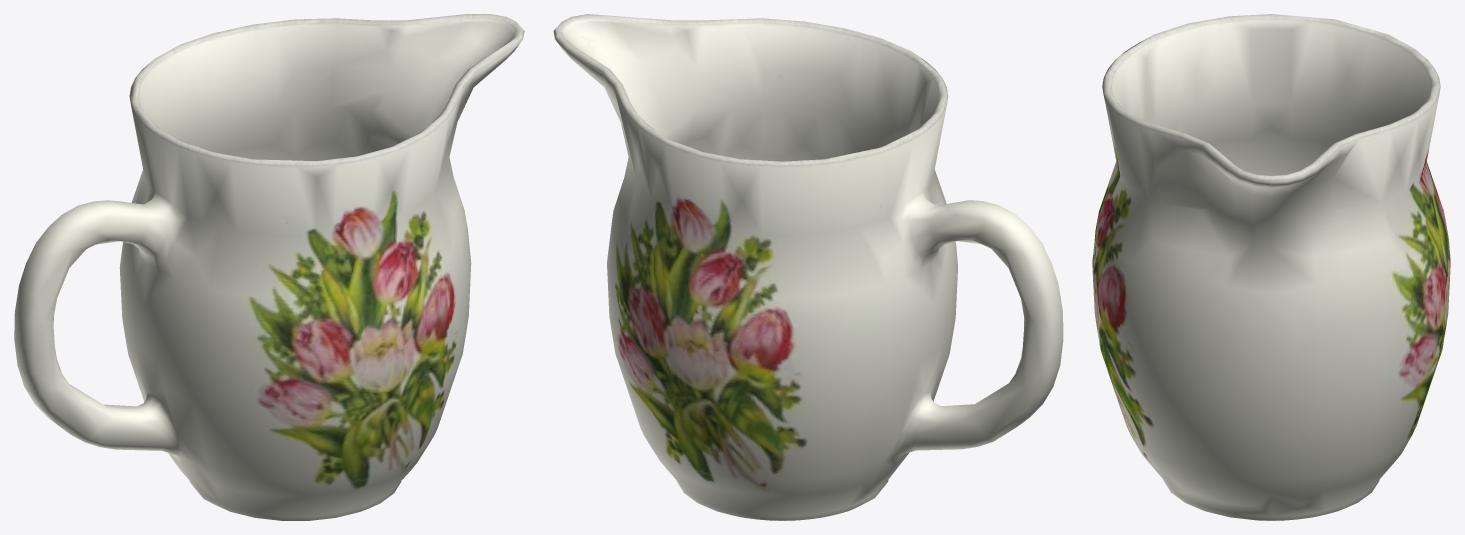
File: ceramic_jug.glb
The picture shows the model from 3 angles, left to right: view 1: azimuth 30°, elevation 25°; view 2: azimuth 150°, elevation 25°; view 3: azimuth 270°, elevation 25°; orthographic projection. The views are drawn at different scales.
Parts seen in each view (by area): view 1: jug_01; view 2: jug_01; view 3: jug_01.
Boxes of the visible parts, x1,y1,x2,y2 form: jug_01: [14, 14, 524, 520]; jug_01: [553, 14, 1063, 520]; jug_01: [1092, 14, 1450, 520].
Size of the model in its own units: 0.275 by 0.2113 by 0.1675.
Materials: 1 (1 with a texture image).
